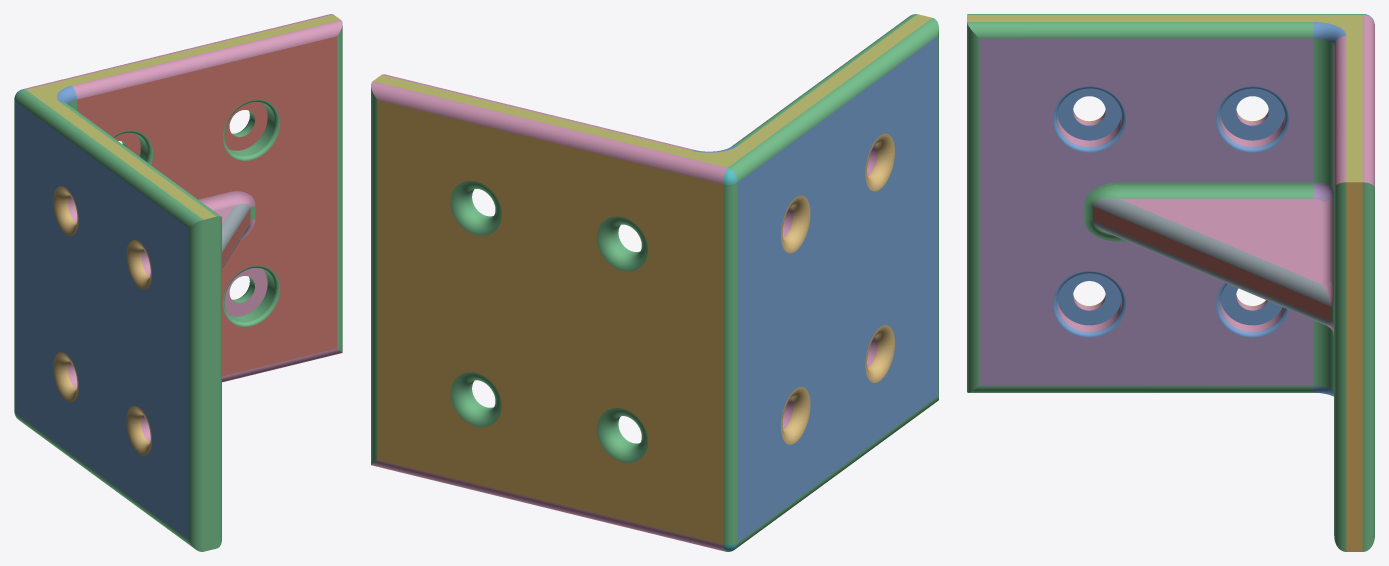
3 renders of one model, left to right at view 1: azimuth 30°, elevation 25°; view 2: azimuth 150°, elevation 25°; view 3: azimuth 270°, elevation 25°, orthographic. The views are drawn at different scales.
Visible parts, largest first — view 1: L-shaped_Bracket; view 2: L-shaped_Bracket; view 3: L-shaped_Bracket.
Boxes of the visible parts, x1=… form: L-shaped_Bracket: x1=14, y1=14, x2=342, y2=551; L-shaped_Bracket: x1=371, y1=14, x2=938, y2=551; L-shaped_Bracket: x1=967, y1=14, x2=1374, y2=551.
Bounding box in the file's own units: 0.05 × 0.05 × 0.05.
